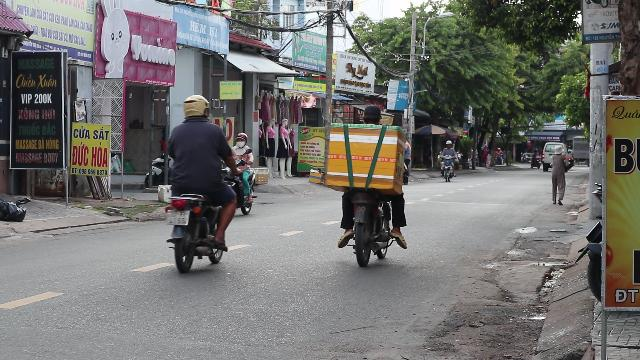helmet: (182, 94, 210, 120)
licenseplate: (167, 210, 189, 226)
motorcyclist: (324, 101, 412, 267), (162, 94, 238, 272)
nohelmet: (361, 104, 381, 124)
